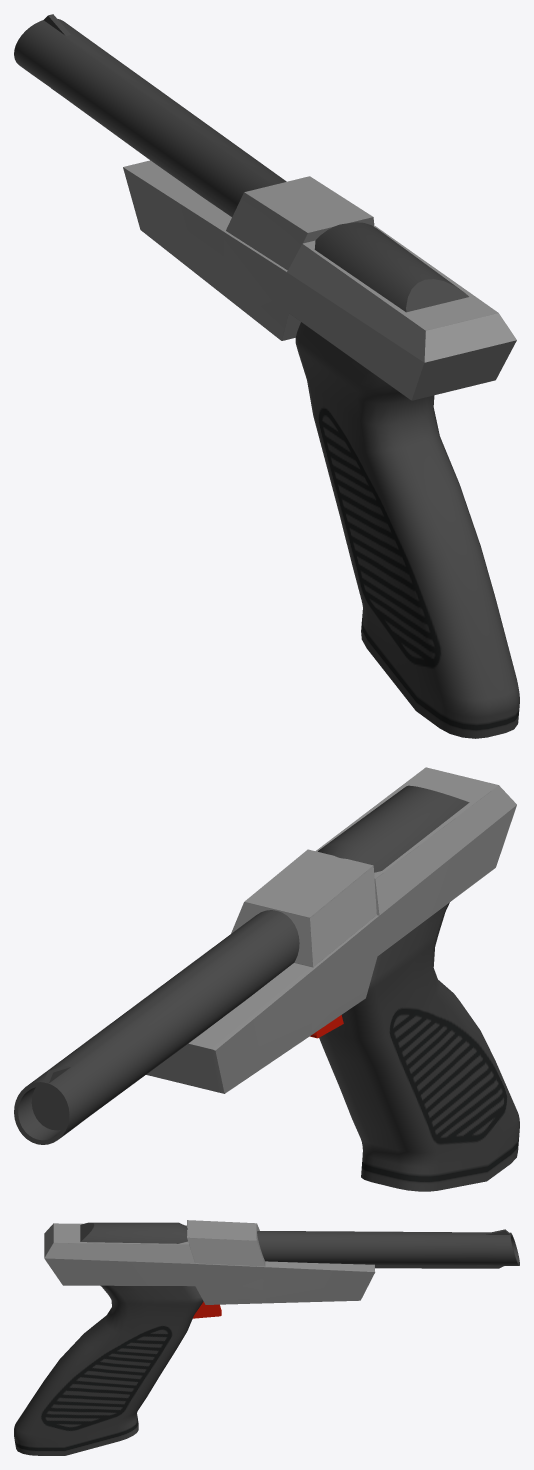
File: Zappe 09.obj
The picture shows the model from 3 angles, top to bottom: view 1: azimuth 30°, elevation 25°; view 2: azimuth 150°, elevation 25°; view 3: azimuth 270°, elevation 25°; orthographic projection. The views are drawn at different scales.
Visible parts, largest first — view 1: Handle, Cube, Cylinder; view 2: Cube, Handle, Cylinder; view 3: Handle, Cube, Cylinder, Trigger.
Boxes of the visible parts, x1,y1,x2,y2 form: Handle: (295, 322, 519, 738); Cube: (123, 160, 516, 400); Cylinder: (14, 14, 468, 312); Cube: (146, 767, 516, 1093); Handle: (319, 902, 519, 1191); Cylinder: (14, 785, 469, 1144); Handle: (14, 1285, 203, 1455); Cube: (44, 1220, 375, 1304); Cylinder: (80, 1222, 519, 1268); Trigger: (193, 1302, 221, 1318).
Size of the model in its own units: 0.5959 by 2.48 by 5.14.
